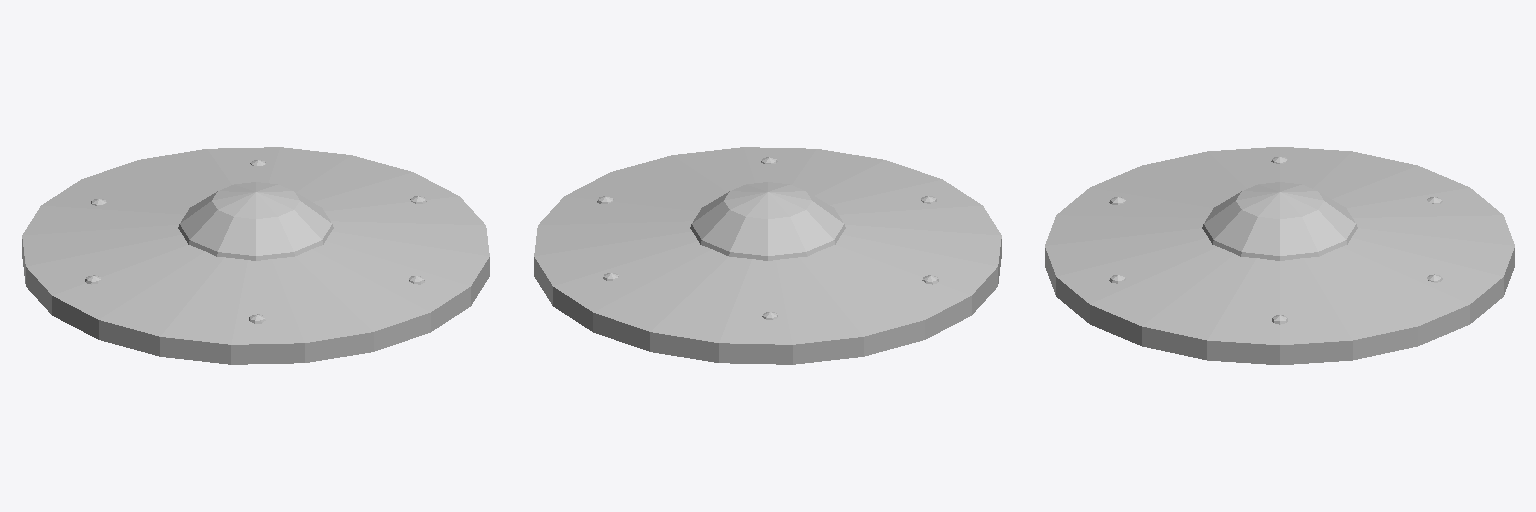
Rendered from UFOCollision.obj.
The picture shows the model from 3 angles: view 1: azimuth 30°, elevation 25°; view 2: azimuth 150°, elevation 25°; view 3: azimuth 270°, elevation 25°; orthographic projection.
Visible parts, largest first — view 1: UFOCollision_0; view 2: UFOCollision_0; view 3: UFOCollision_0.
Boxes of the visible parts, x1=… form: UFOCollision_0: x1=22, y1=147, x2=489, y2=364; UFOCollision_0: x1=534, y1=147, x2=1001, y2=364; UFOCollision_0: x1=1045, y1=147, x2=1514, y2=364.
Size of the model in its own units: 32 by 9.6 by 32.